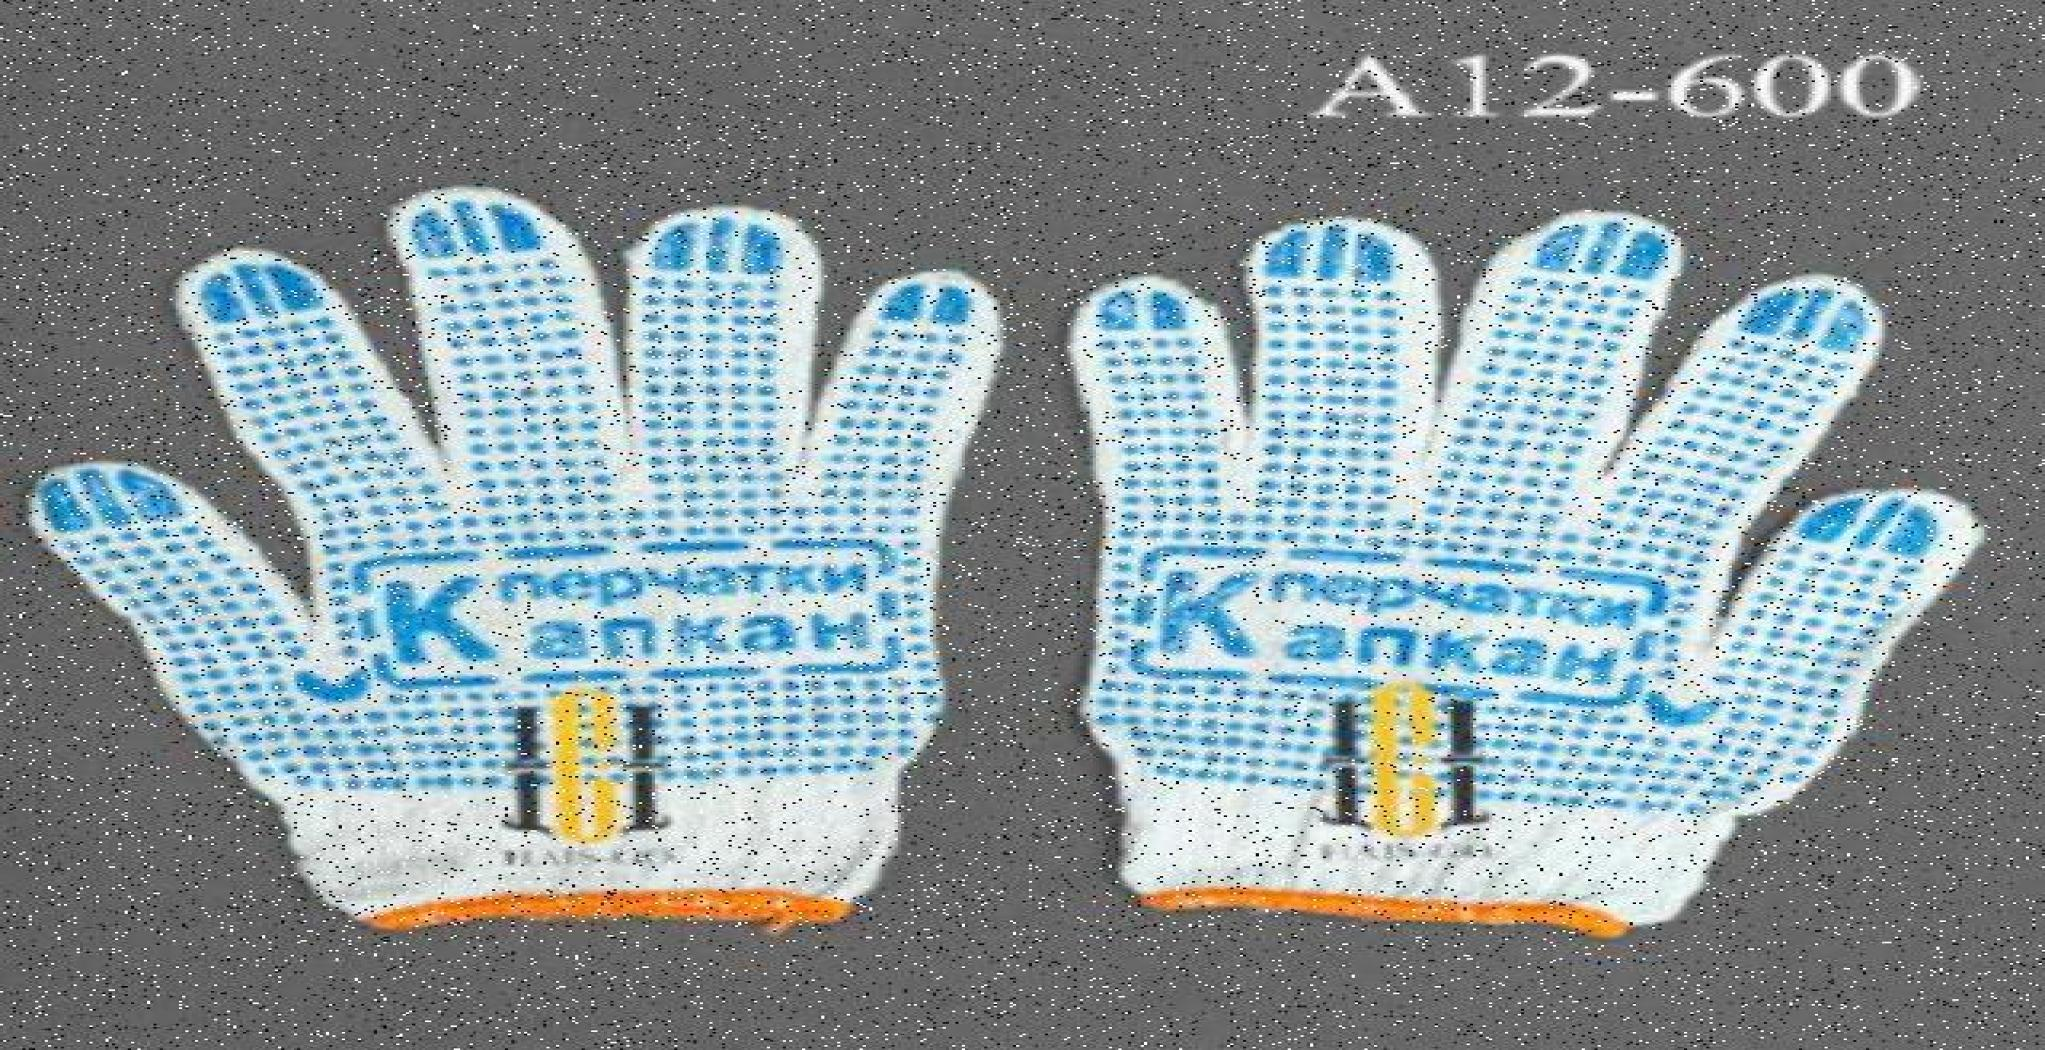gloved: (23, 183, 1003, 932), (1063, 208, 1983, 937)
